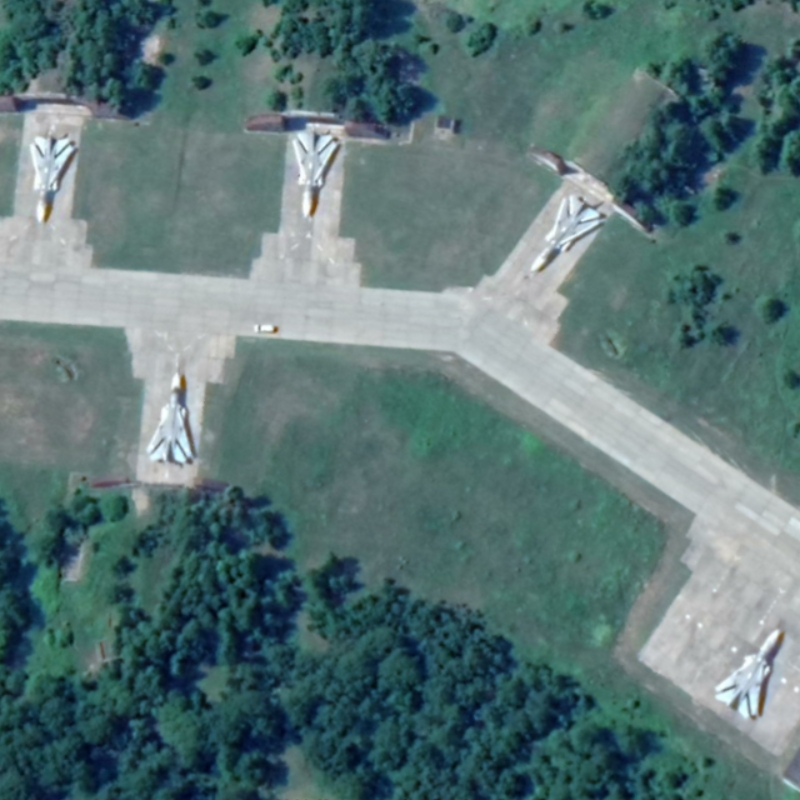A20: (712, 627, 782, 720), (528, 193, 601, 274), (144, 370, 195, 466), (290, 129, 340, 220), (27, 135, 77, 225)
